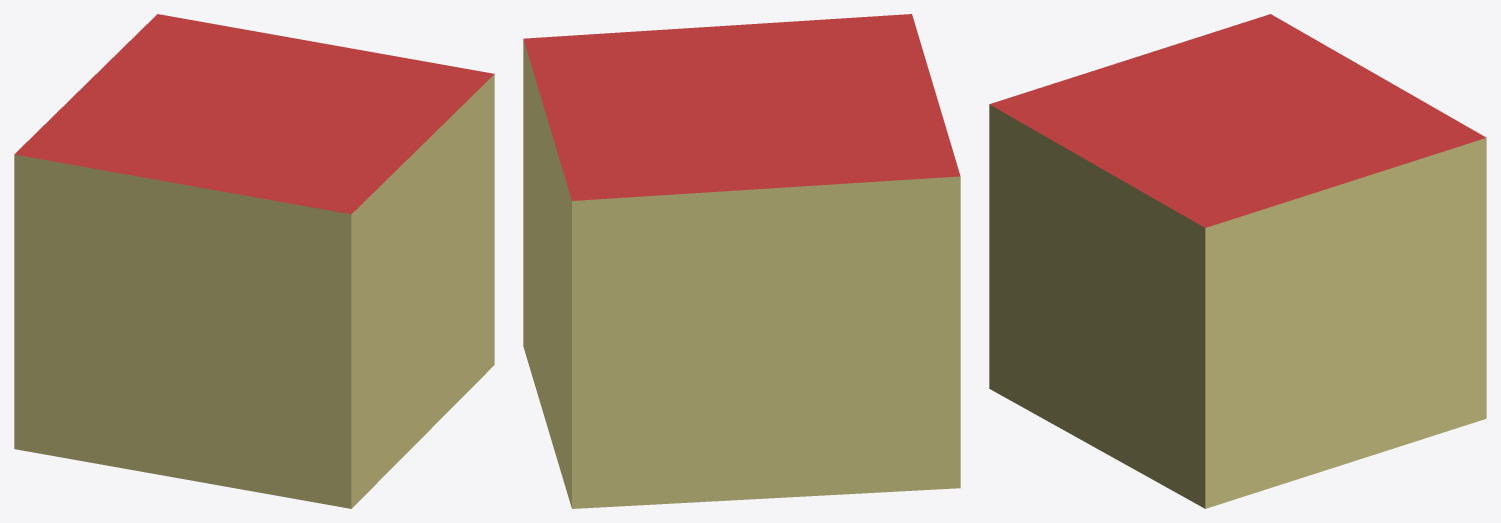
3 views of the same model, side by side, from view 1: azimuth 30°, elevation 25°; view 2: azimuth 150°, elevation 25°; view 3: azimuth 270°, elevation 25° (orthographic). The views are drawn at different scales.
Bounding box in the file's own units: 8.63 × 8.62 × 5.44.
